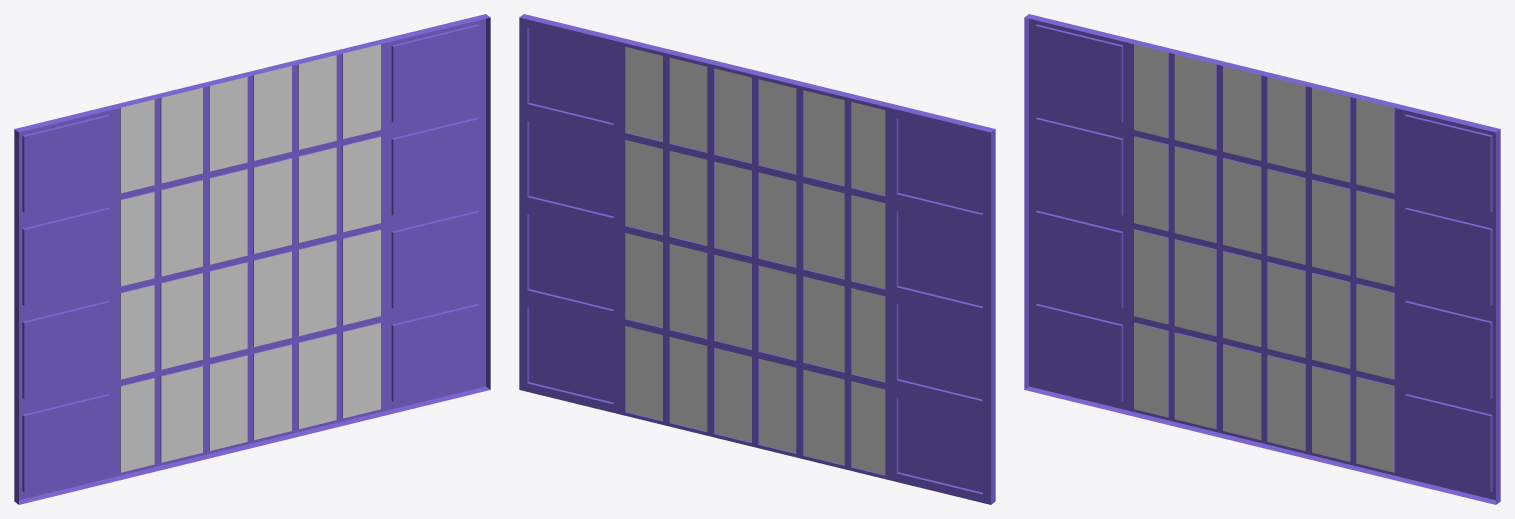
File: pared con ventana 1.fbx
3 renders of one model, left to right at view 1: azimuth 30°, elevation 25°; view 2: azimuth 150°, elevation 25°; view 3: azimuth 330°, elevation 25°, orthographic.
Parts seen in each view (by area): view 1: Cube.016; view 2: Cube.016; view 3: Cube.016.
Part boxes in pixels (x1,y1,x2,y2): Cube.016: [14, 14, 490, 504]; Cube.016: [519, 14, 995, 504]; Cube.016: [1024, 14, 1500, 504].
Bounding box in the file's own units: 2.65 × 2 × 0.0463.
